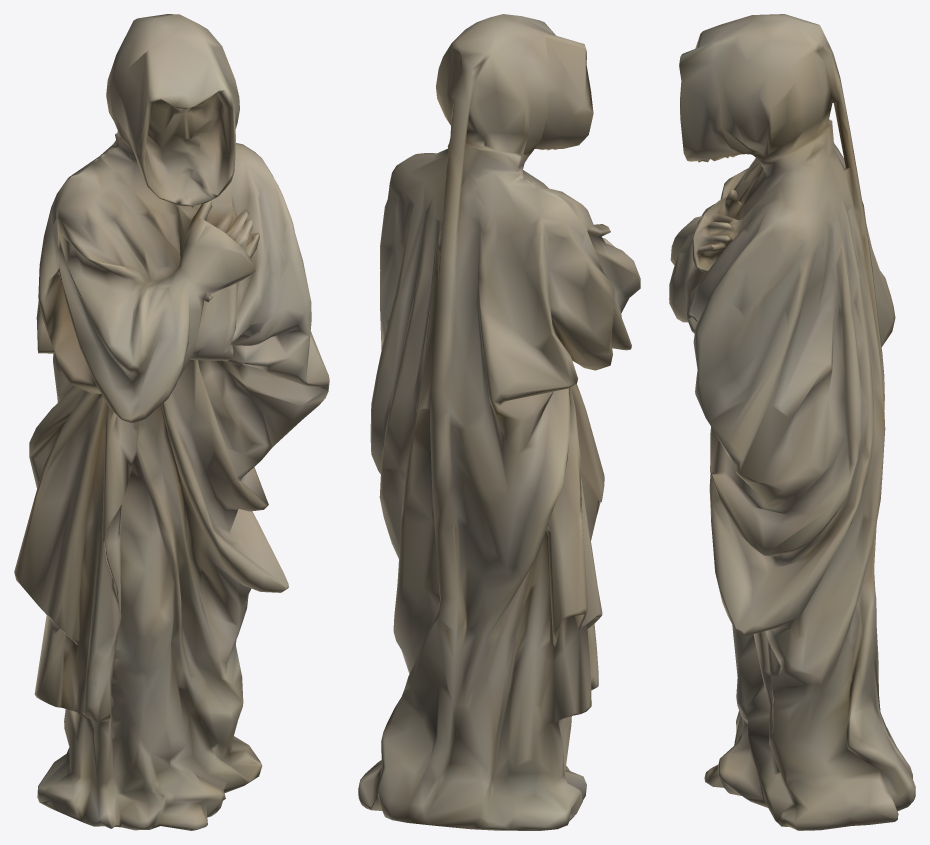
The model's file is hooded-mourner.c9e995c7.glb.
3 renders of one model, left to right at view 1: azimuth 30°, elevation 25°; view 2: azimuth 150°, elevation 25°; view 3: azimuth 270°, elevation 25°, orthographic. The views are drawn at different scales.
Parts seen in each view (by area): view 1: body; view 2: body; view 3: body.
Boxes of the visible parts, x1=… form: body: x1=14, y1=14, x2=329, y2=830; body: x1=358, y1=14, x2=640, y2=830; body: x1=669, y1=14, x2=915, y2=830.
Size of what is drawn, in the model's own units: 0.335 by 0.949 by 0.2771.
